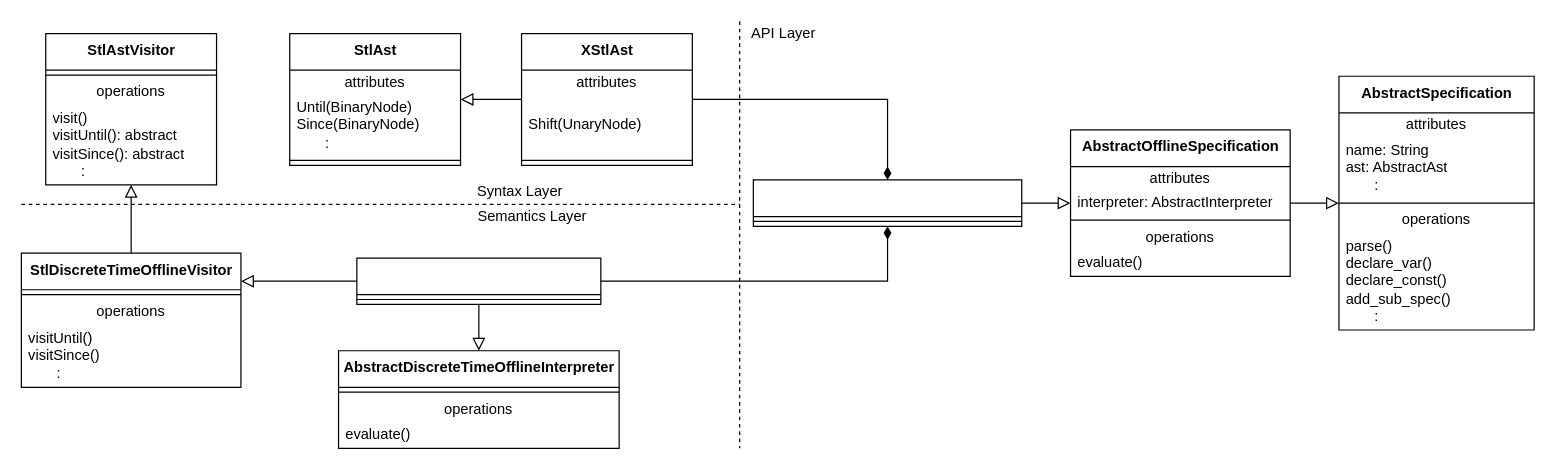
Some shapes in this 1556 by 471 pixel diagram are drawn without their labels. The shapes that lost their labels are listed below. From the top down, each one's centre as x and y in pixels, then its label:
At (887,202): "XStlDiscreteTimeOfflineSpecification".
At (478,280): "XStl Discrete TimeOffline Interpreter".
